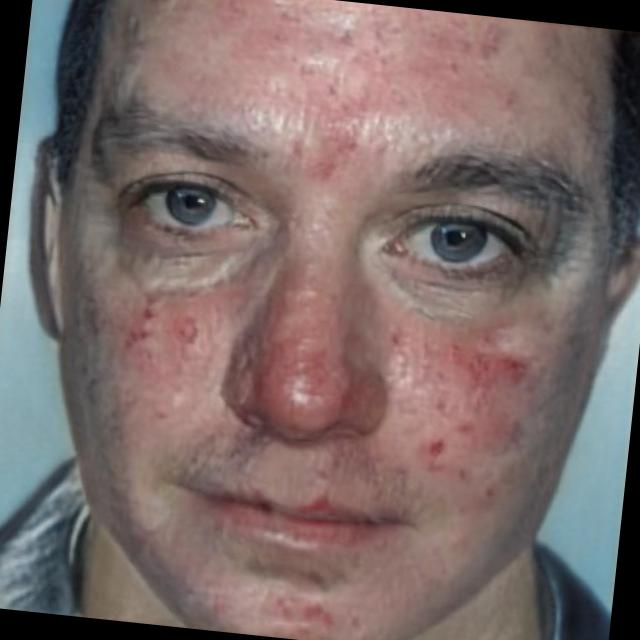redness: (152, 0, 528, 191), (380, 317, 536, 501), (221, 264, 389, 424), (102, 283, 249, 395), (259, 590, 346, 636)
